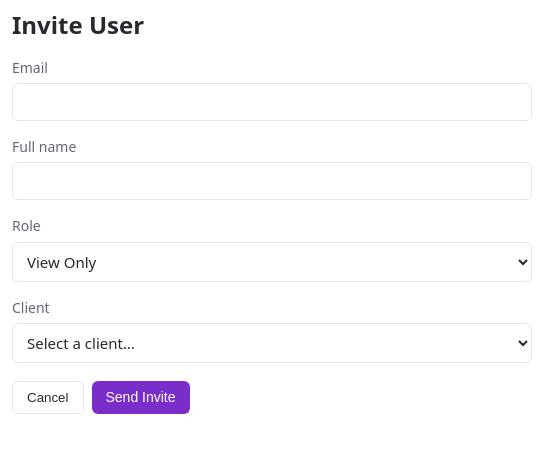
Test: UserInvitePage › defaults to View Only and requires a client for it
The image size is (549, 458).
Type "x@test.dev" into the field labelled "Email" at (272, 102), box [12,83,532,121]
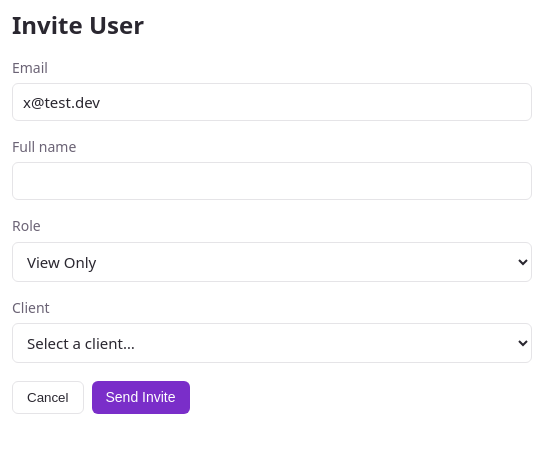
Type "Someone" into the field labelled "Full name" at (272, 181), box [12,162,532,200]
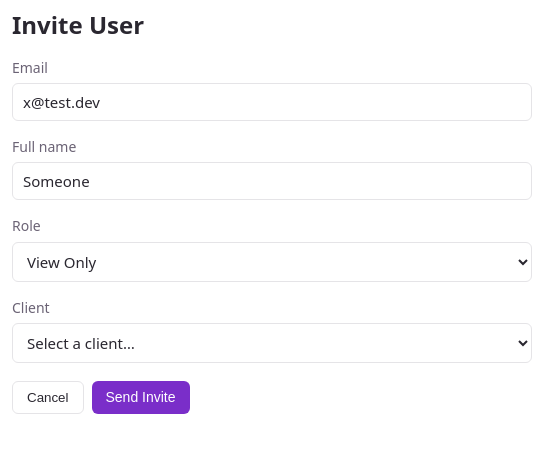
Click the button "Send Invite" at (141, 397), box [92,381,190,414]
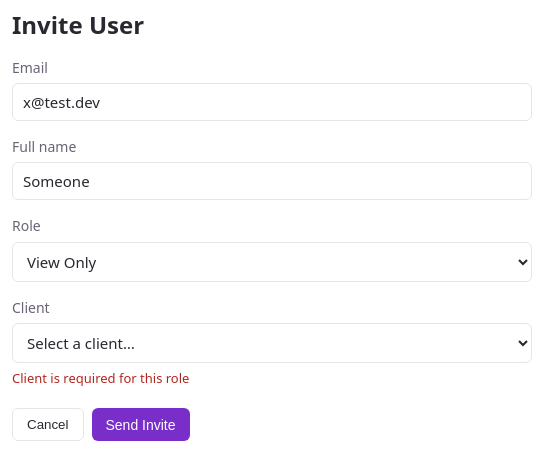
Expected: the text "Client is required for this role" is shown, [12,369,189,387]
